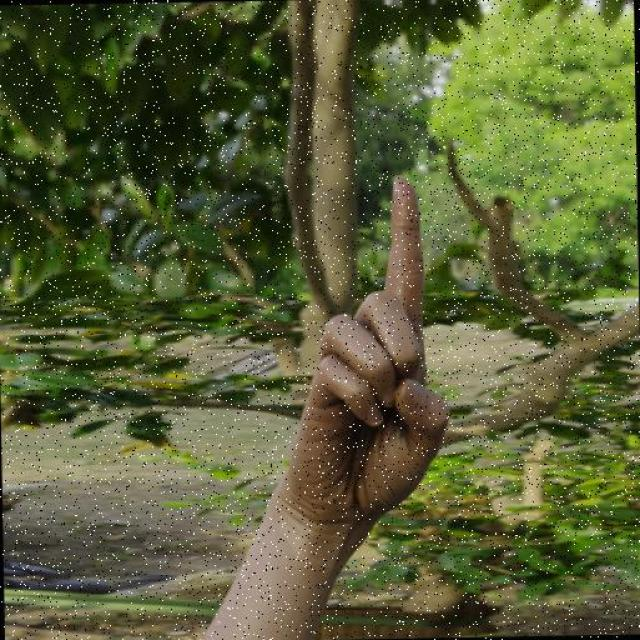D: (275, 169, 454, 545)
